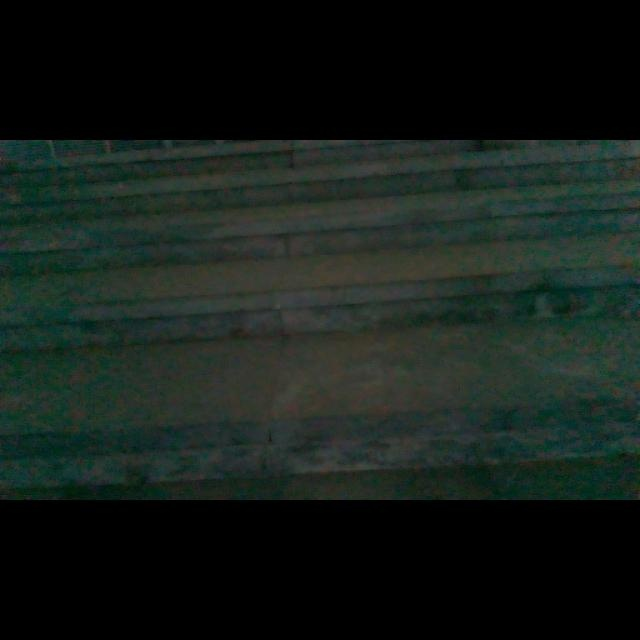stair: (0, 156, 626, 467)
